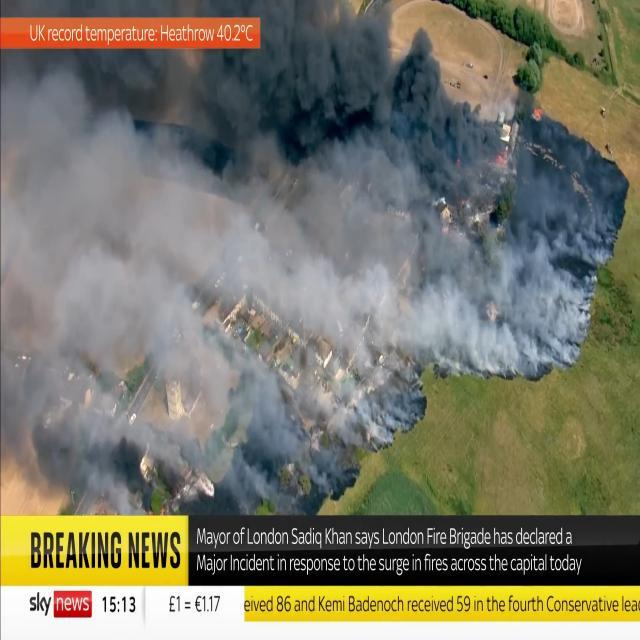Fire: (494, 150, 508, 166), (533, 106, 544, 117), (456, 156, 462, 167)
Smoke: (0, 99, 570, 370), (202, 0, 500, 197), (424, 127, 626, 369)
